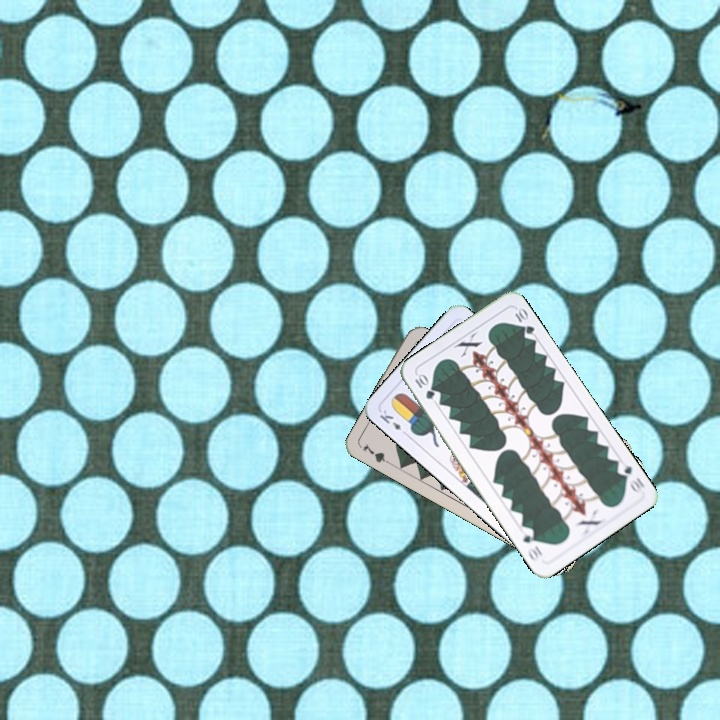EK: (375, 406, 411, 439)
G10: (613, 458, 647, 496), (411, 370, 437, 402)
G7: (358, 439, 395, 468)
